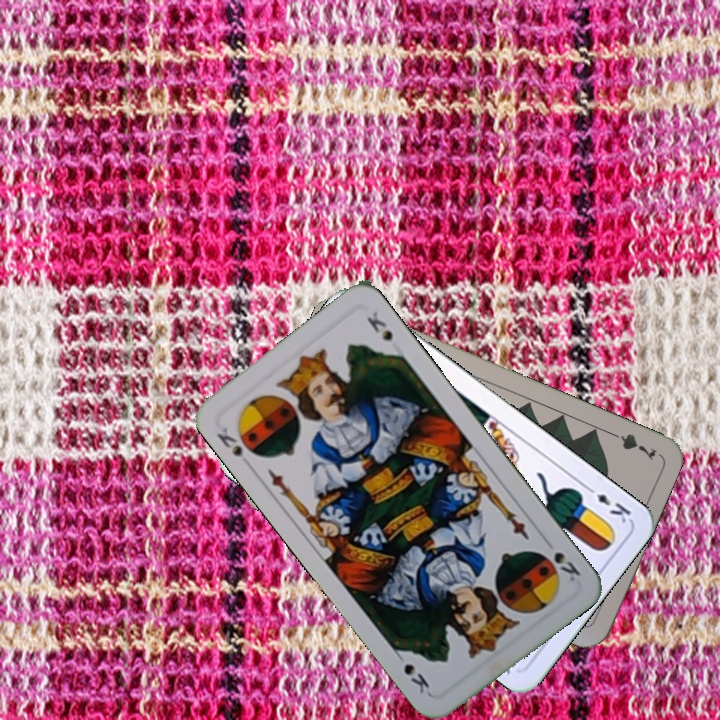EK: (581, 481, 634, 526)
G7: (603, 426, 659, 463)
SK: (540, 534, 584, 585), (213, 423, 245, 460)
